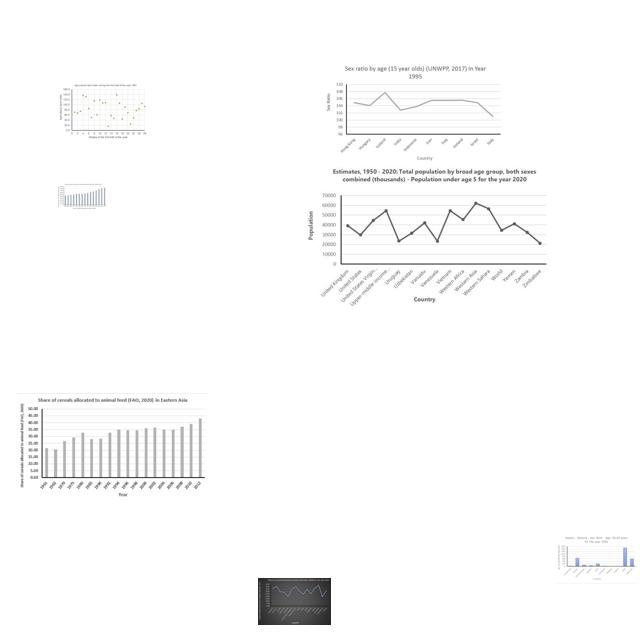Graph: (303, 163, 549, 310), (17, 393, 208, 501), (325, 61, 505, 162), (57, 83, 148, 141), (556, 535, 637, 584), (258, 578, 331, 625), (57, 183, 107, 210)
